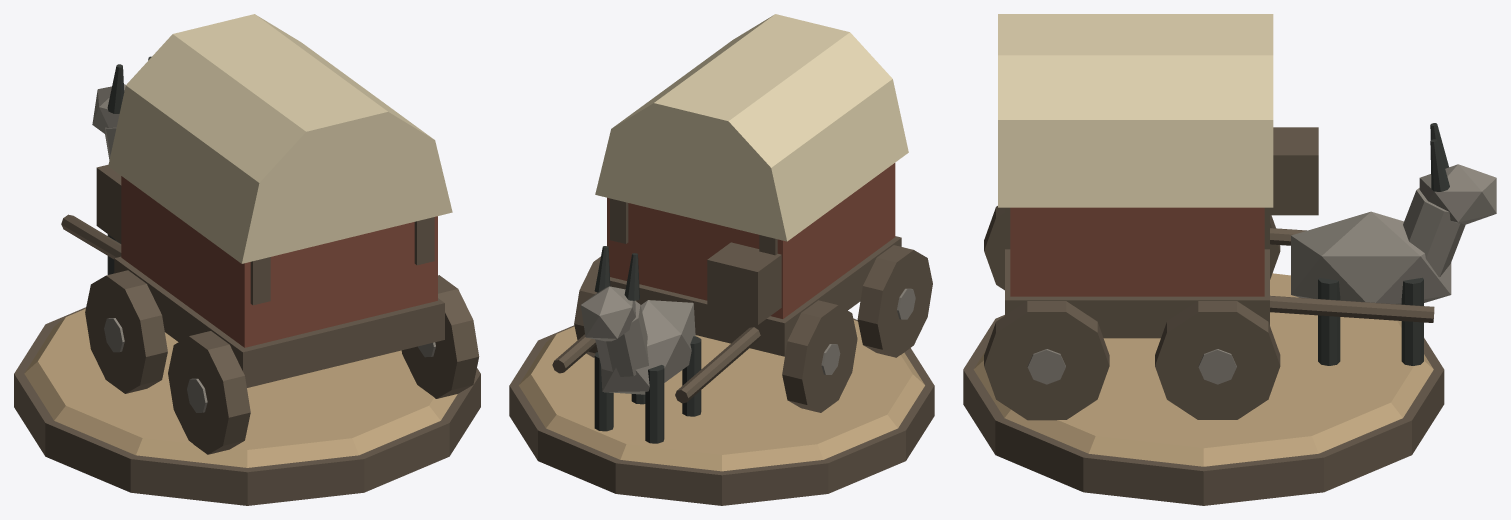
Rendered from WorldParty_Caravan.fbx.
The picture shows the model from 3 angles, left to right: view 1: azimuth 30°, elevation 25°; view 2: azimuth 150°, elevation 25°; view 3: azimuth 270°, elevation 25°; orthographic projection. The views are drawn at different scales.
Visible parts, largest first — view 1: WorldParty_Caravan; view 2: WorldParty_Caravan; view 3: WorldParty_Caravan.
Boxes of the visible parts, x1,y1,x2,y2 form: WorldParty_Caravan: (14,14,480,505); WorldParty_Caravan: (509,14,934,505); WorldParty_Caravan: (963,14,1496,505).
Size of the model in its own units: 1.38 by 1.17 by 1.53.
